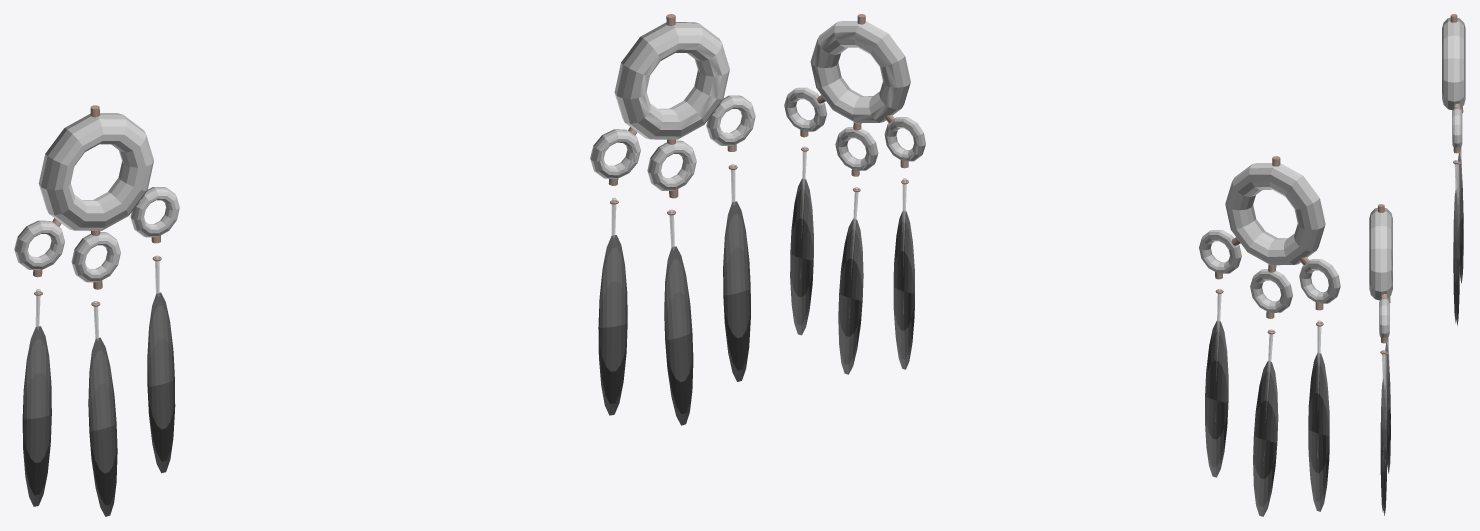
File: earrings2.glb
The picture shows the model from 3 angles, left to right: view 1: azimuth 30°, elevation 25°; view 2: azimuth 150°, elevation 25°; view 3: azimuth 270°, elevation 25°; orthographic projection. The views are drawn at different scales.
Visible parts, largest first — view 1: model, model.001; view 2: model, model.001; view 3: model.001, model.
Part boxes in pixels (<box>): model: <box>590,14,755,425</box>; model.001: <box>14,105,179,516</box>; model: <box>784,14,925,374</box>; model.001: <box>1199,156,1340,516</box>; model.001: <box>1442,14,1465,325</box>; model: <box>1369,204,1392,515</box>.
Bounding box in the file's own units: 1.09 × 0.6301 × 0.1798.
